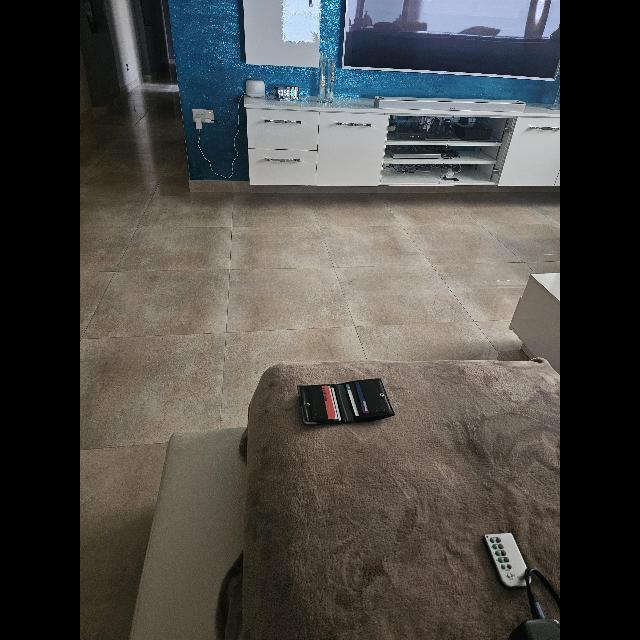Wallet: (298, 378, 394, 424)
